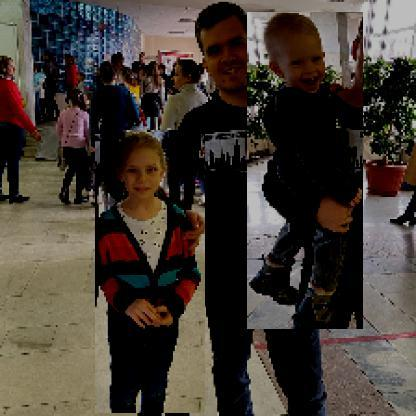child: (248, 13, 365, 331), (96, 131, 207, 415), (57, 90, 91, 205)
